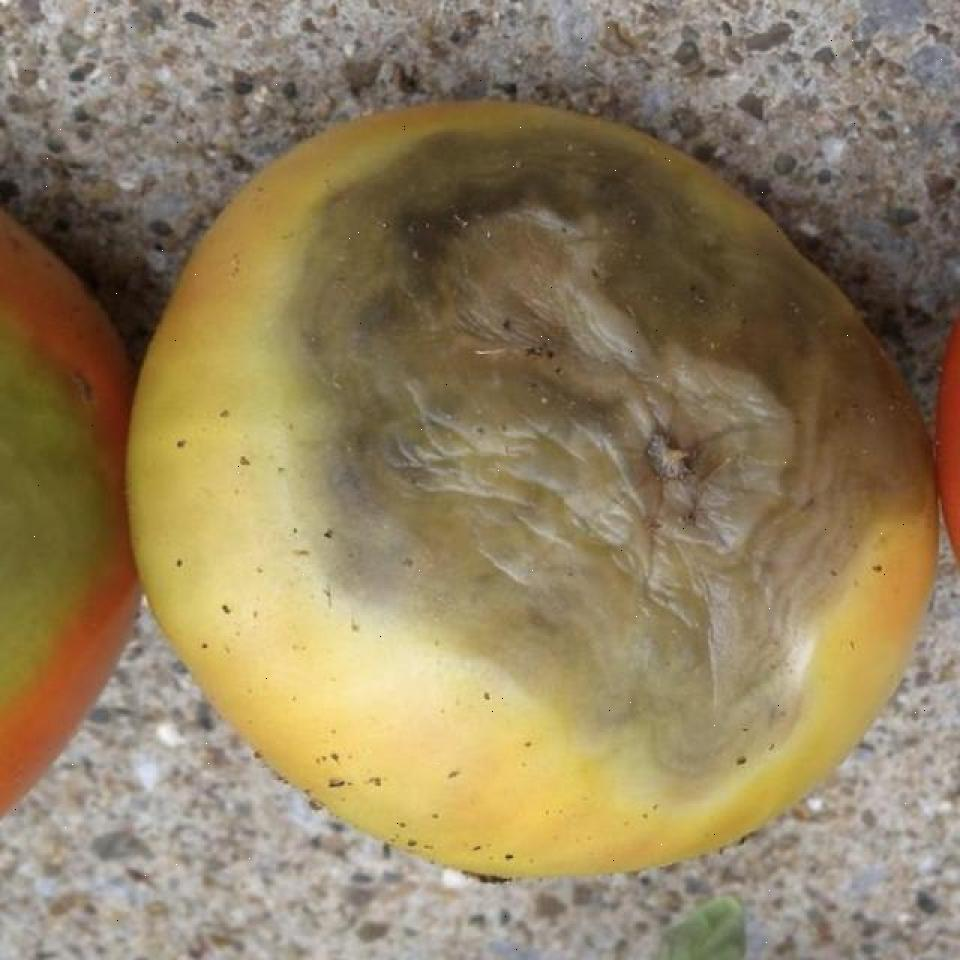Sunscald: (273, 129, 930, 805), (0, 314, 106, 701)
